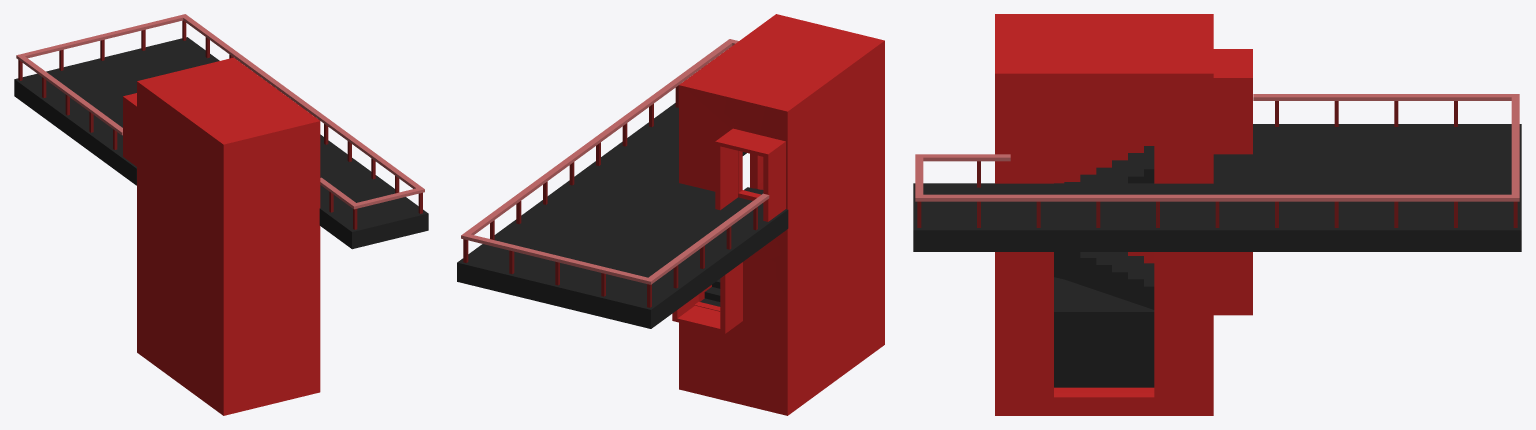
The model's file is Staircase.fbx.
3 views of the same model, side by side, from view 1: azimuth 30°, elevation 25°; view 2: azimuth 150°, elevation 25°; view 3: azimuth 270°, elevation 25° (orthographic). The views are drawn at different scales.
Visible parts, largest first — view 1: Huelle, BodenundTreppe, Gelaender, GelaenderStutzen; view 2: Huelle, BodenundTreppe, Gelaender, GelaenderStutzen; view 3: BodenundTreppe, Huelle, Gelaender, GelaenderStutzen.
Boxes of the visible parts, box(x1,y1,x2,y2) form: Huelle: box(123, 57, 320, 415); BodenundTreppe: box(14, 37, 428, 249); Gelaender: box(16, 14, 424, 209); GelaenderStutzen: box(18, 20, 422, 229); Huelle: box(672, 14, 884, 415); BodenundTreppe: box(457, 103, 788, 328); Gelaender: box(461, 39, 769, 284); GelaenderStutzen: box(463, 85, 757, 307); BodenundTreppe: box(913, 124, 1521, 387); Huelle: box(995, 14, 1252, 415); Gelaender: box(915, 94, 1519, 201); GelaenderStutzen: box(917, 101, 1517, 227).
Bounding box in the file's own units: 634 × 950 × 1530.
